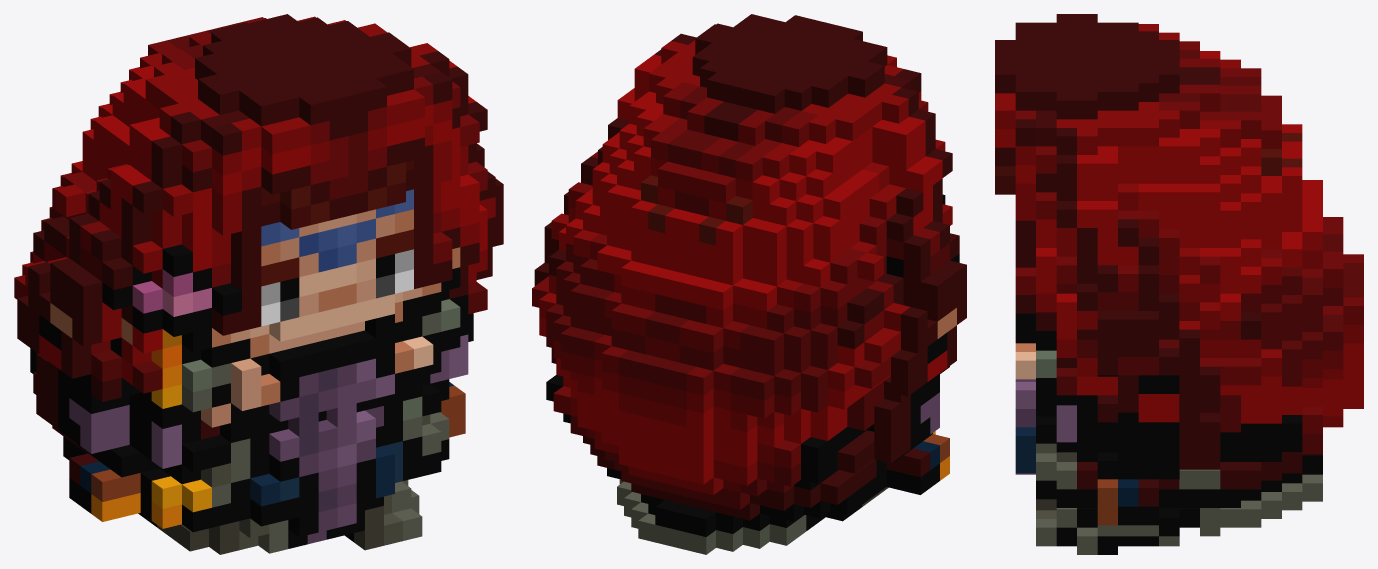
Rendered from Icon_202_01.obj.
3 views of the same model, side by side, from view 1: azimuth 30°, elevation 25°; view 2: azimuth 150°, elevation 25°; view 3: azimuth 270°, elevation 25° (orthographic). The views are drawn at different scales.
Size of the model in its own units: 2.2 by 2.4 by 1.8.
1 material, 1 textured.
